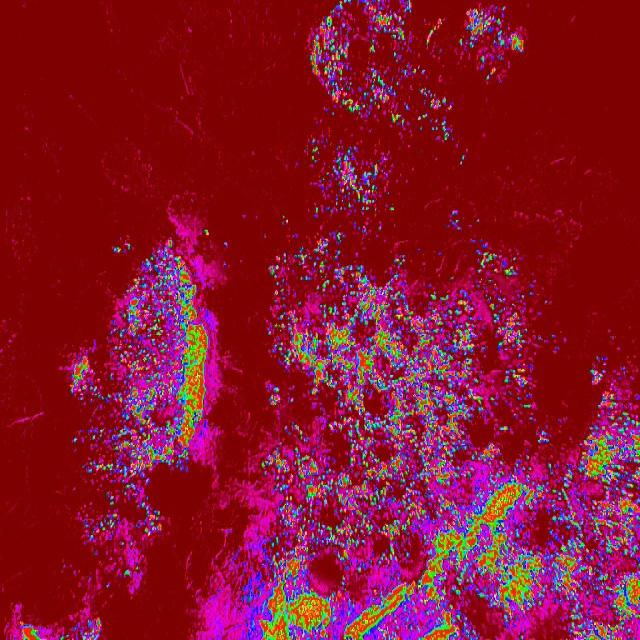fire: (267, 254, 534, 640), (118, 236, 220, 472), (67, 353, 162, 572), (585, 355, 640, 640), (311, 0, 428, 114), (534, 435, 584, 640), (306, 137, 404, 226), (232, 483, 266, 639), (459, 8, 526, 82), (11, 609, 102, 640)
